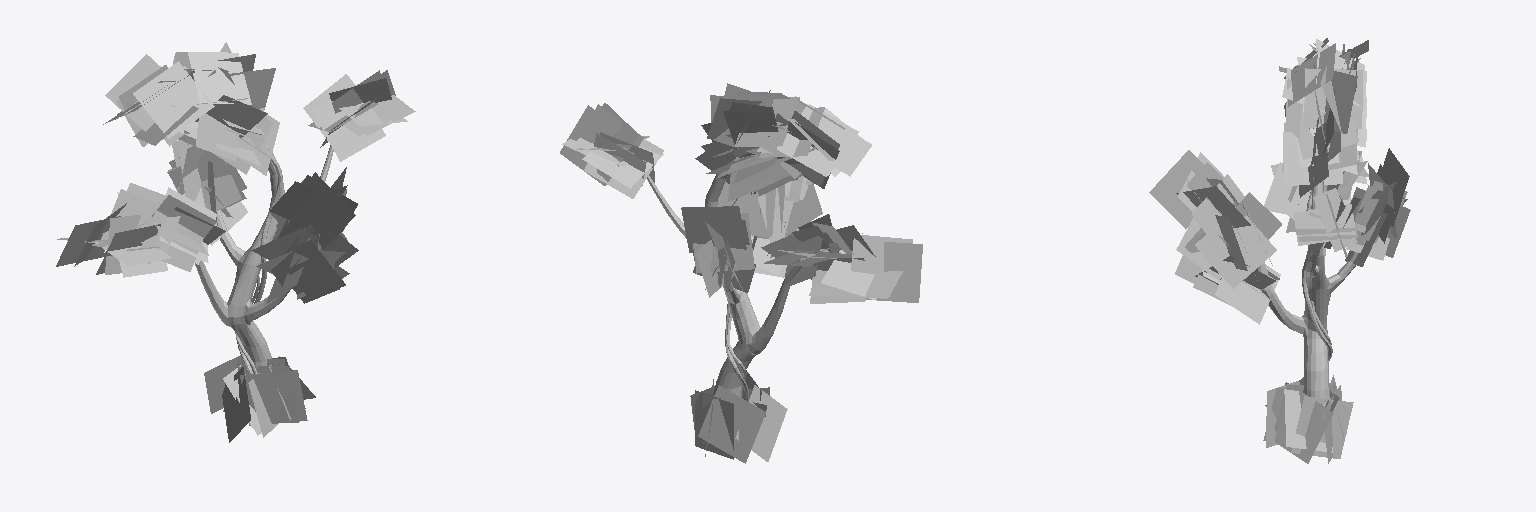
File: Tree.obj
3 renders of one model, left to right at view 1: azimuth 30°, elevation 25°; view 2: azimuth 150°, elevation 25°; view 3: azimuth 270°, elevation 25°, orthographic.
Visible parts, largest first — view 1: Plane, Trunk; view 2: Plane, Trunk; view 3: Plane, Trunk.
Boxes of the visible parts, x1=… form: Plane: x1=56, y1=42, x2=415, y2=442; Trunk: x1=195, y1=145, x2=333, y2=373; Plane: x1=560, y1=83, x2=922, y2=463; Trunk: x1=647, y1=159, x2=809, y2=400; Plane: x1=1149, y1=38, x2=1410, y2=463; Trunk: x1=1242, y1=177, x2=1357, y2=406.
Bounding box in the file's own units: 7.4 × 7.79 × 4.77.